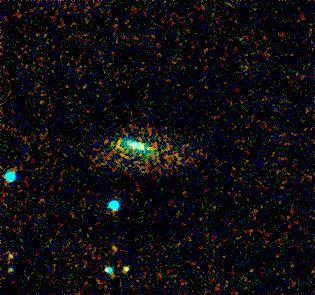star: (114, 254, 144, 284)
